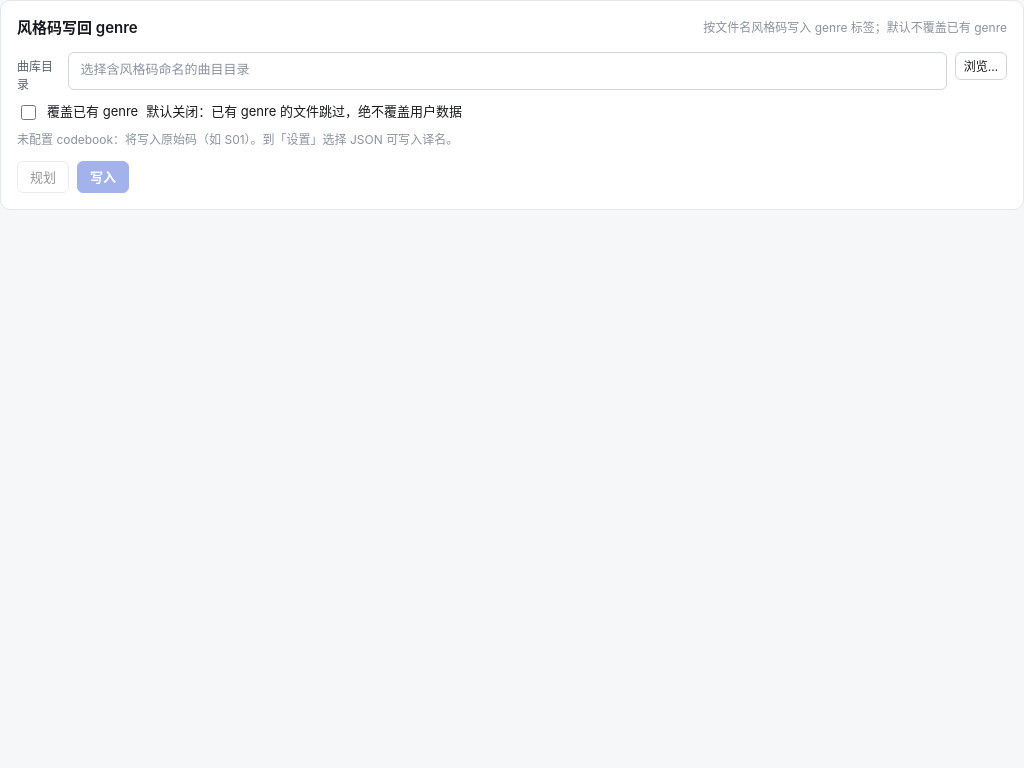
Test: GenrePanel › 失败数显式呈现（绝不谎报成功）
The image size is (1024, 768).
Type "/lib" into the field labelled "曲库目录" at {"x": 507, "y": 70}, box top-left (68, 52), bottom-right (947, 90)
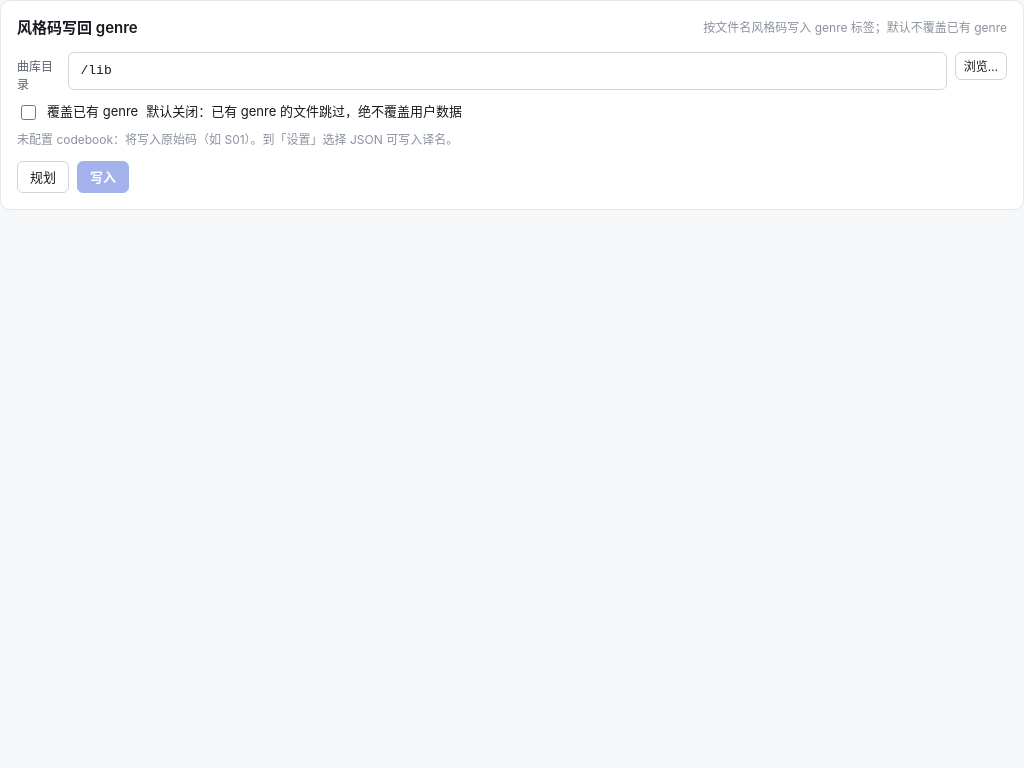
Click the button "规划" at {"x": 43, "y": 176}, box top-left (17, 160), bottom-right (69, 192)
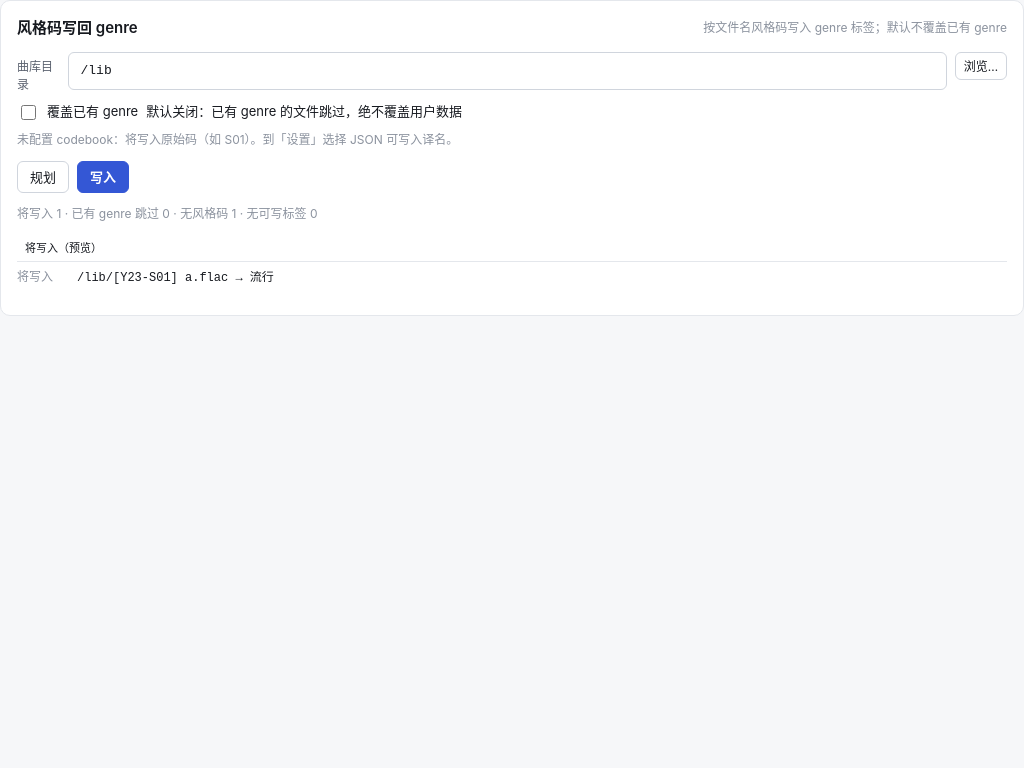
Check: the text "将写入 1 · 已有 genre 跳过 0 · 无风格码 1 · 无可写标签 0" is shown, box top-left (17, 206), bottom-right (318, 220)
Click the button "写入" at {"x": 103, "y": 176}, box top-left (77, 160), bottom-right (129, 192)
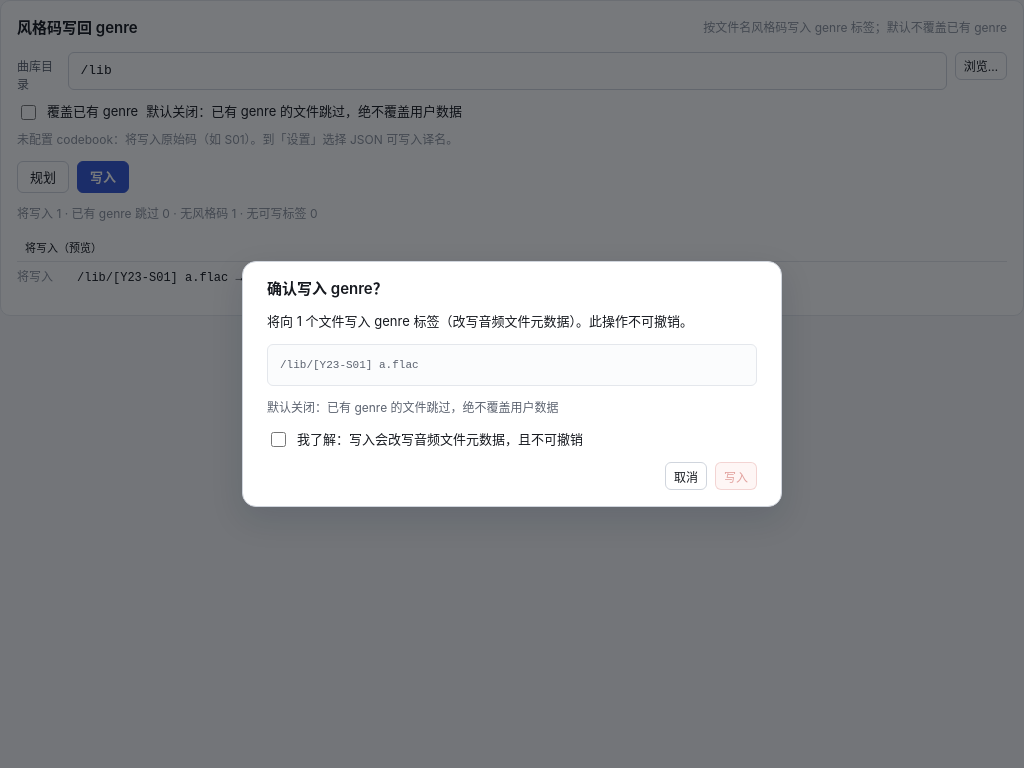
Check: the heading "确认写入 genre？" is shown, box top-left (267, 279), bottom-right (388, 298)
Check: the dialog with class "modal" is shown, box top-left (242, 261), bottom-right (782, 507)
Click the checkbox labelled "我了解：写入会改写音频文件元数据，且不可撤销" at {"x": 278, "y": 440}, box top-left (271, 432), bottom-right (286, 447)
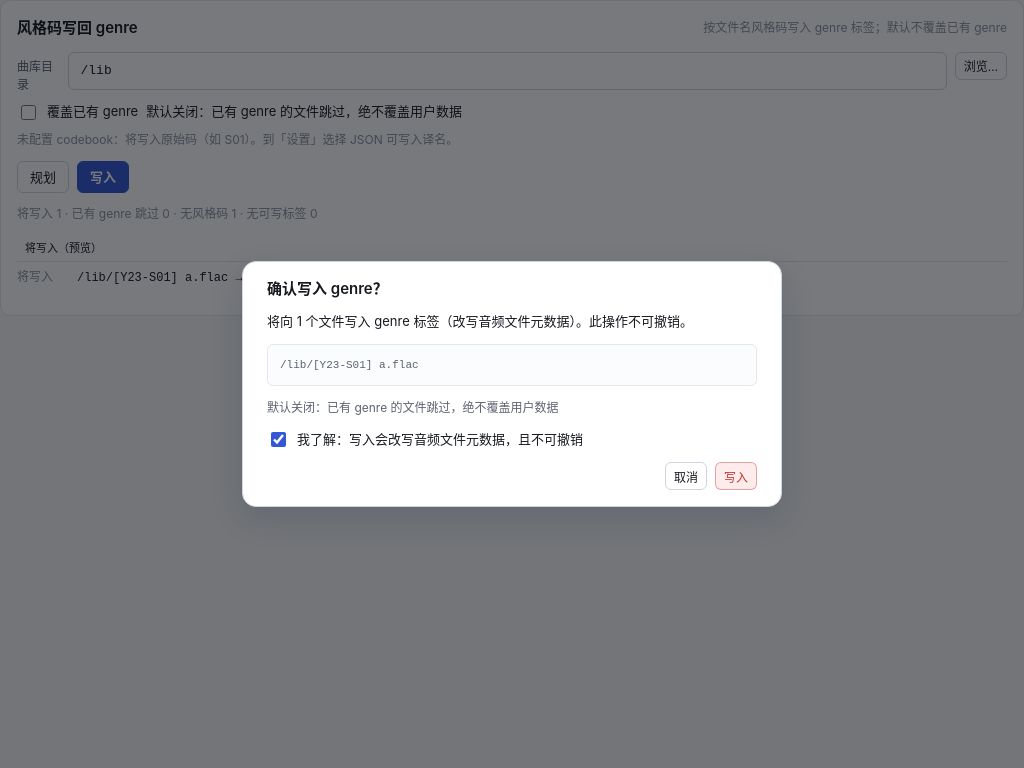
Check: the button "写入" is shown
Click the button "写入" at {"x": 736, "y": 476}, box top-left (715, 462), bottom-right (757, 490)
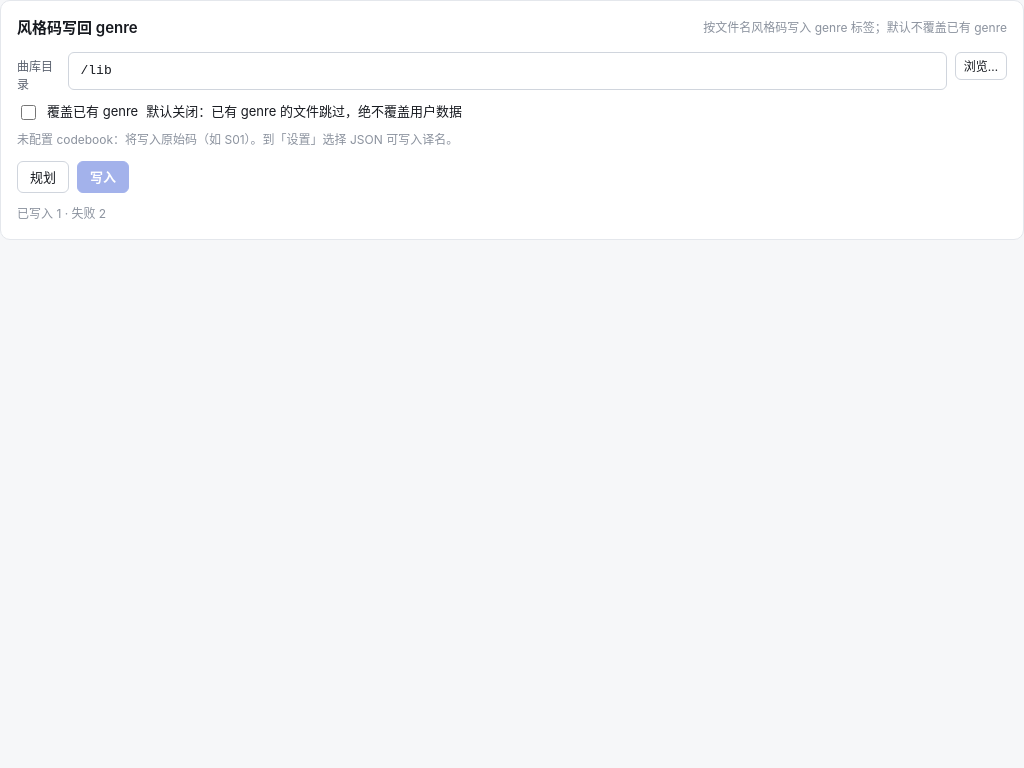
Check: the text "已写入 1 · 失败 2" is shown, box top-left (17, 206), bottom-right (106, 220)
